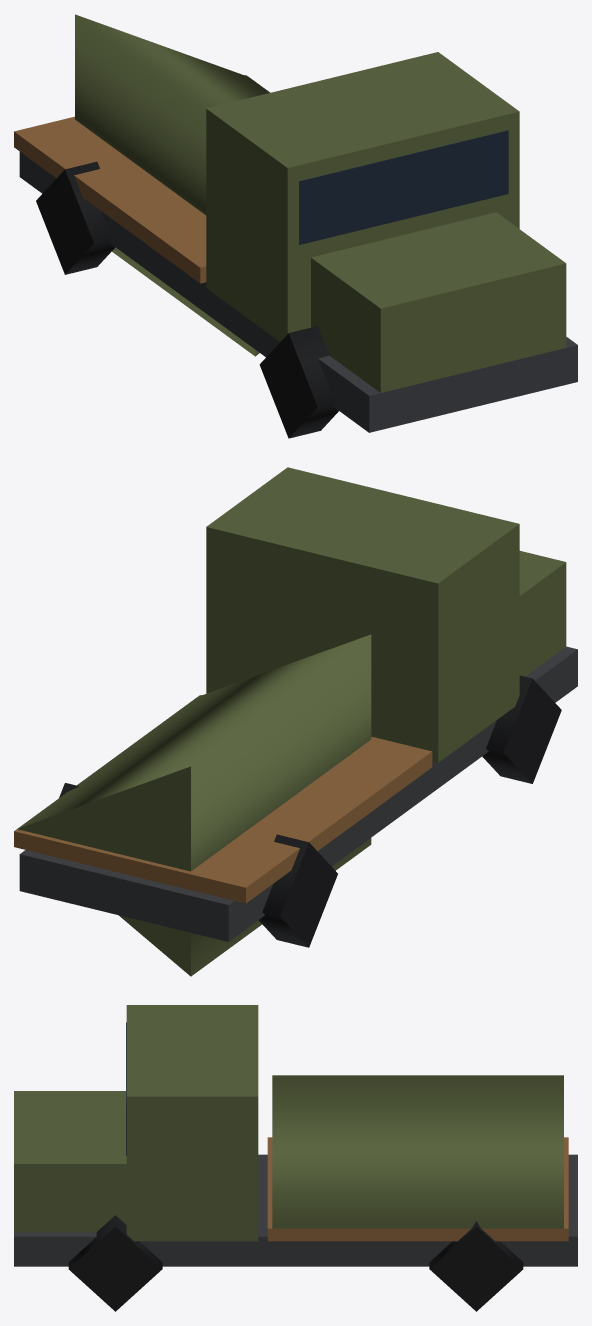
The model's file is veh_ground_truck_a05_lod2.glb.
3 views of the same model, one above another, from view 1: azimuth 30°, elevation 25°; view 2: azimuth 150°, elevation 25°; view 3: azimuth 270°, elevation 25° (orthographic). The views are drawn at different scales.
Parts seen in each view (by area): view 1: body, wheel_2, wheel_0; view 2: body, wheel_0, wheel_2; view 3: body, wheel_3, wheel_1.
Part boxes in pixels (box(x1,y1,x2,y2)): body: box(14, 14, 577, 432); wheel_2: box(259, 326, 338, 438); wheel_0: box(36, 161, 115, 274); body: box(14, 467, 577, 976); wheel_0: box(258, 834, 337, 947); wheel_2: box(482, 675, 561, 783); body: box(14, 1005, 577, 1266); wheel_3: box(68, 1215, 162, 1311); wheel_1: box(429, 1221, 523, 1311).
Size of the model in its own units: 2.42 by 2.55 by 6.
